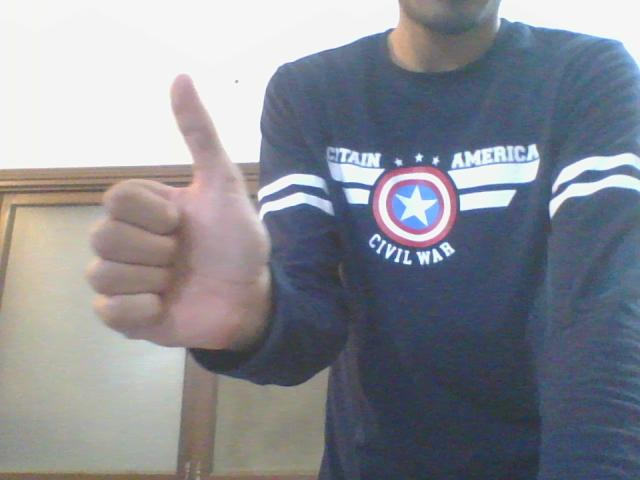thumbs-up: (88, 73, 260, 356)
